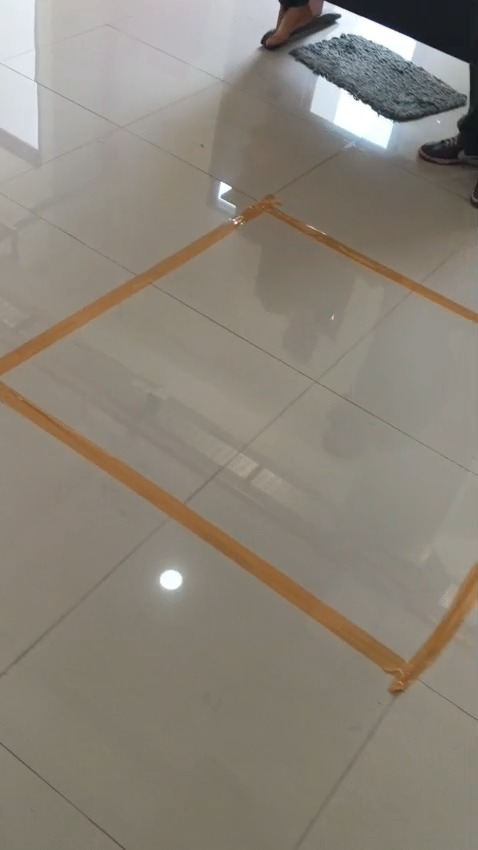floor marking: (0, 381, 477, 693), (0, 195, 476, 376), (210, 240, 212, 241)
